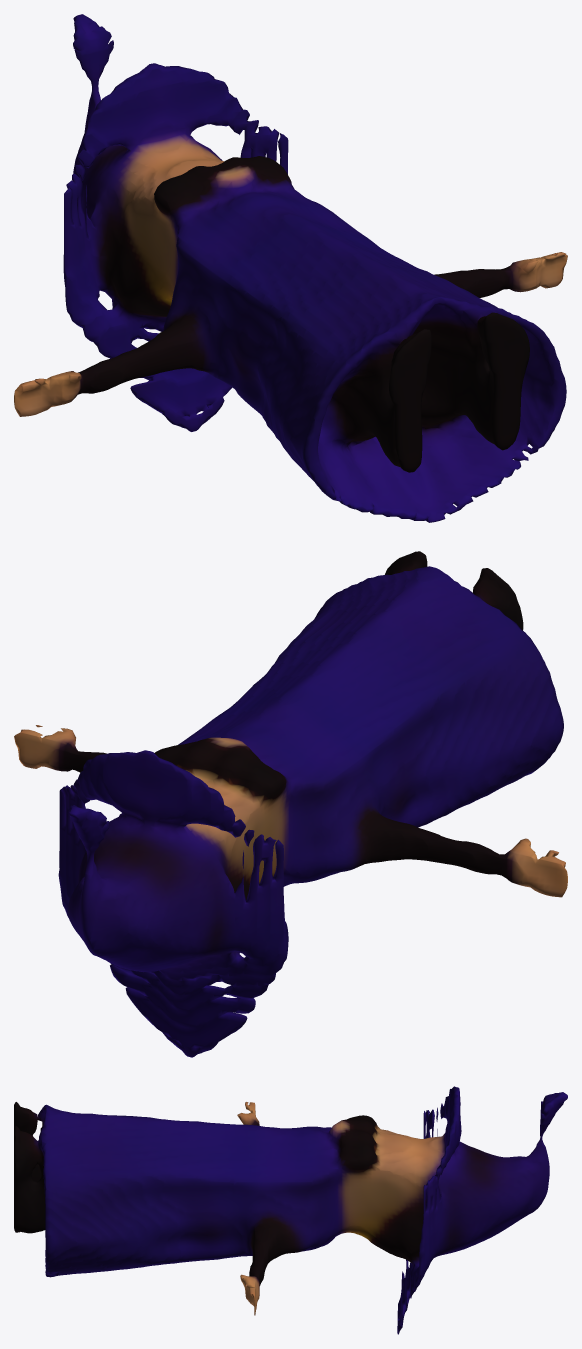
File: low_poly_wizard.FBX
The picture shows the model from 3 angles, top to bottom: view 1: azimuth 30°, elevation 25°; view 2: azimuth 150°, elevation 25°; view 3: azimuth 270°, elevation 25°; orthographic projection. The views are drawn at different scales.
Parts seen in each view (by area): view 1: plyFile; view 2: plyFile; view 3: plyFile.
Part boxes in pixels (left/top/right/bottom): plyFile: left=14, top=14, right=567, bottom=522; plyFile: left=14, top=551, right=567, bottom=1057; plyFile: left=14, top=1086, right=567, bottom=1334.
Size of the model in its own units: 165 by 96.09 by 198.
